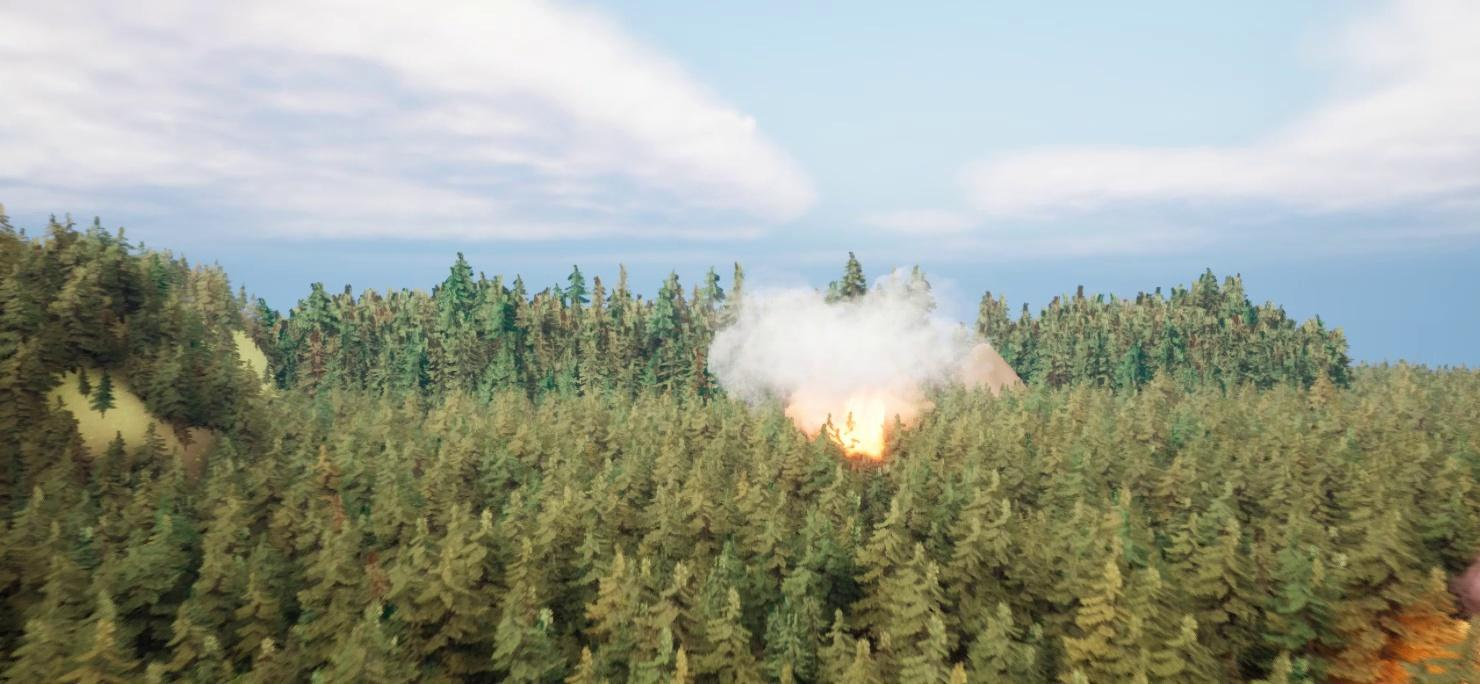fire: (785, 391, 929, 458)
smoke: (706, 263, 1047, 427)
